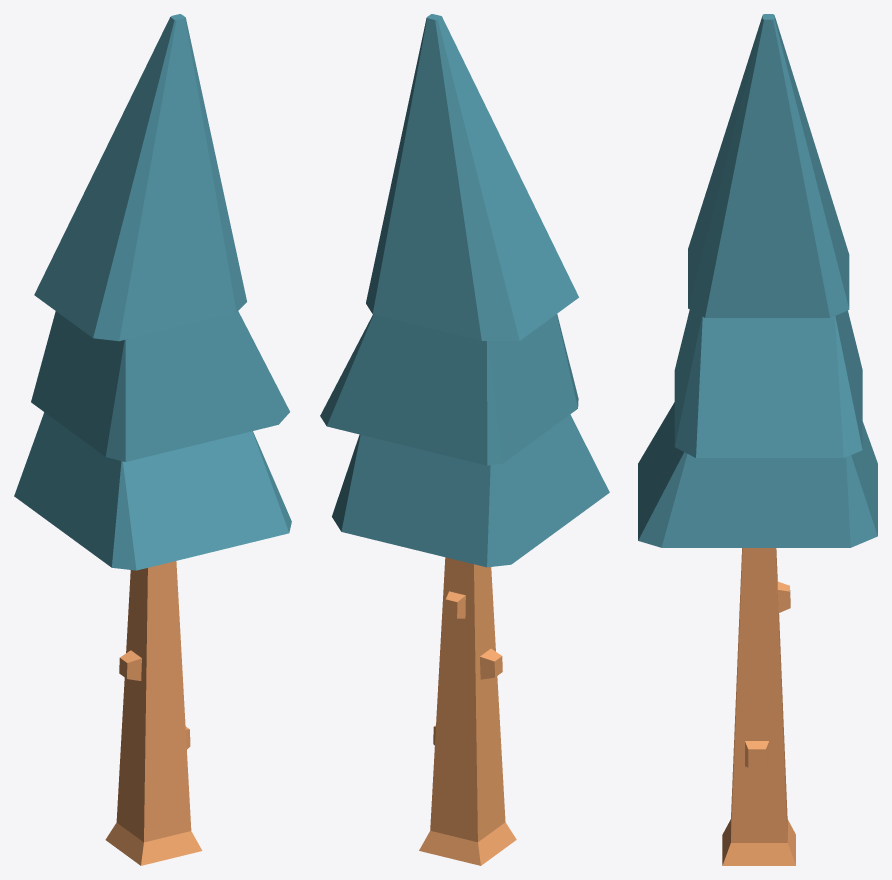
File: tree_pine_shortSquare_detailed.fbx
3 renders of one model, left to right at view 1: azimuth 30°, elevation 25°; view 2: azimuth 150°, elevation 25°; view 3: azimuth 270°, elevation 25°, orthographic. The views are drawn at different scales.
Visible parts, largest first — view 1: tree_pine_shortSquare_detailed; view 2: tree_pine_shortSquare_detailed; view 3: tree_pine_shortSquare_detailed.
Boxes of the visible parts, x1,y1,x2,y2 form: tree_pine_shortSquare_detailed: [14, 14, 291, 865]; tree_pine_shortSquare_detailed: [320, 14, 609, 865]; tree_pine_shortSquare_detailed: [638, 14, 877, 865].
Bounding box in the file's own units: 3.86 × 15.3 × 3.92.
